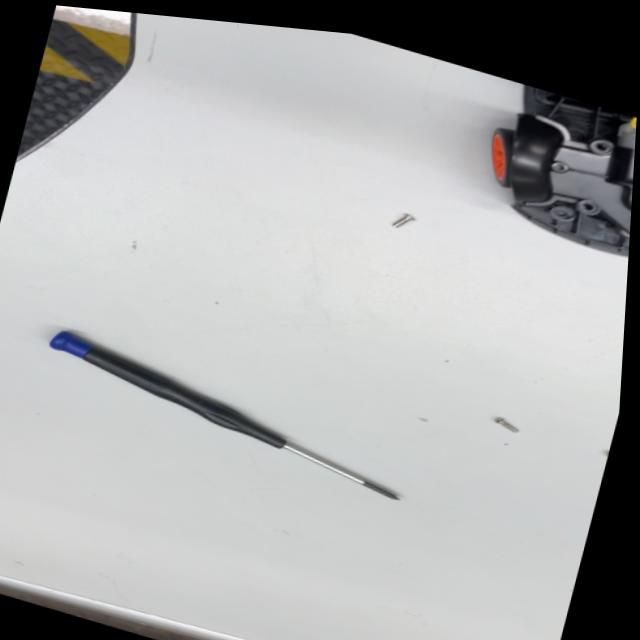screw: (16, 313, 444, 505), (482, 406, 530, 443), (388, 206, 420, 242)
